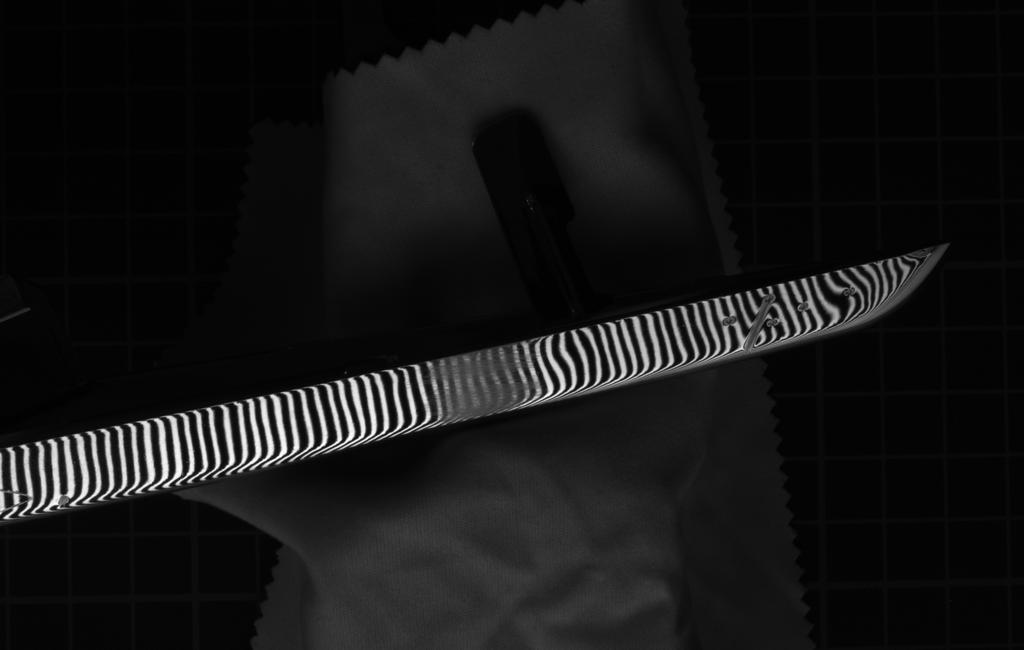Pierced: (716, 311, 746, 330), (761, 314, 789, 332), (792, 297, 816, 317), (837, 284, 862, 300)
Pitting: (426, 333, 546, 433)
Scratch: (740, 292, 781, 353)
